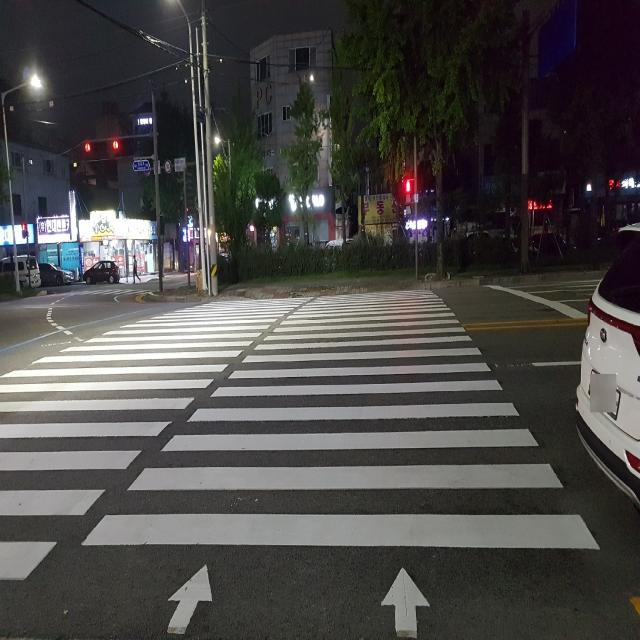빨간불: (404, 179, 412, 215)
횡단보도: (0, 284, 602, 640)
